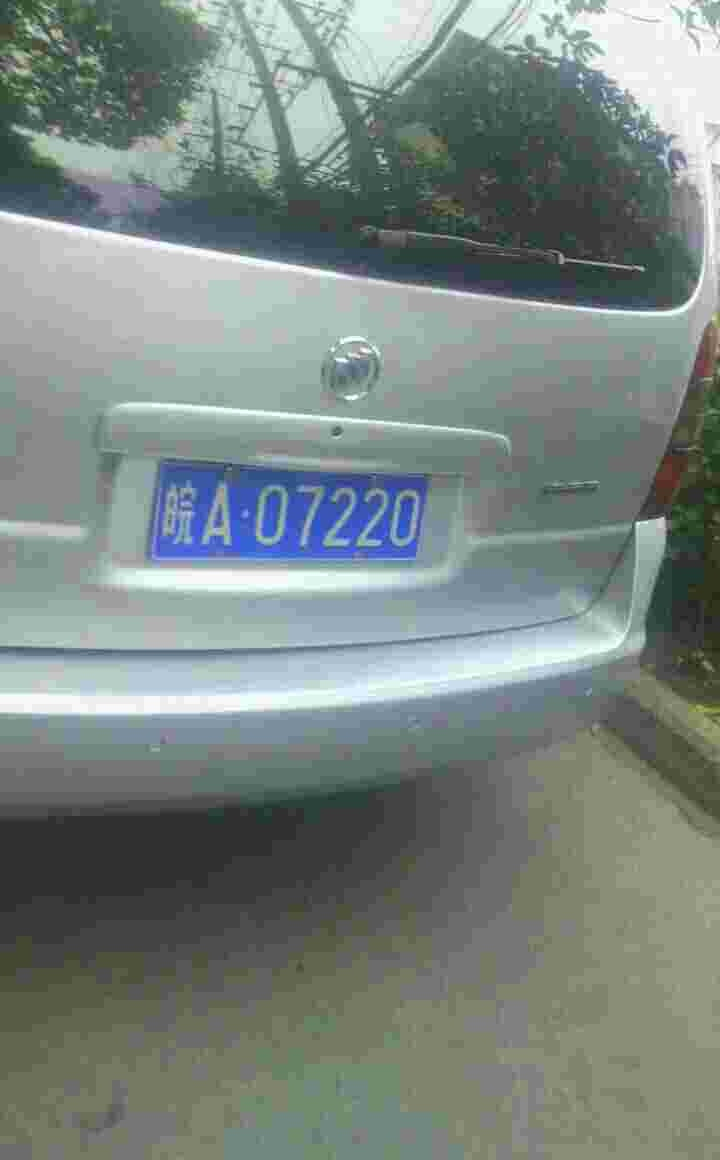license_plate: (148, 472, 434, 550)
